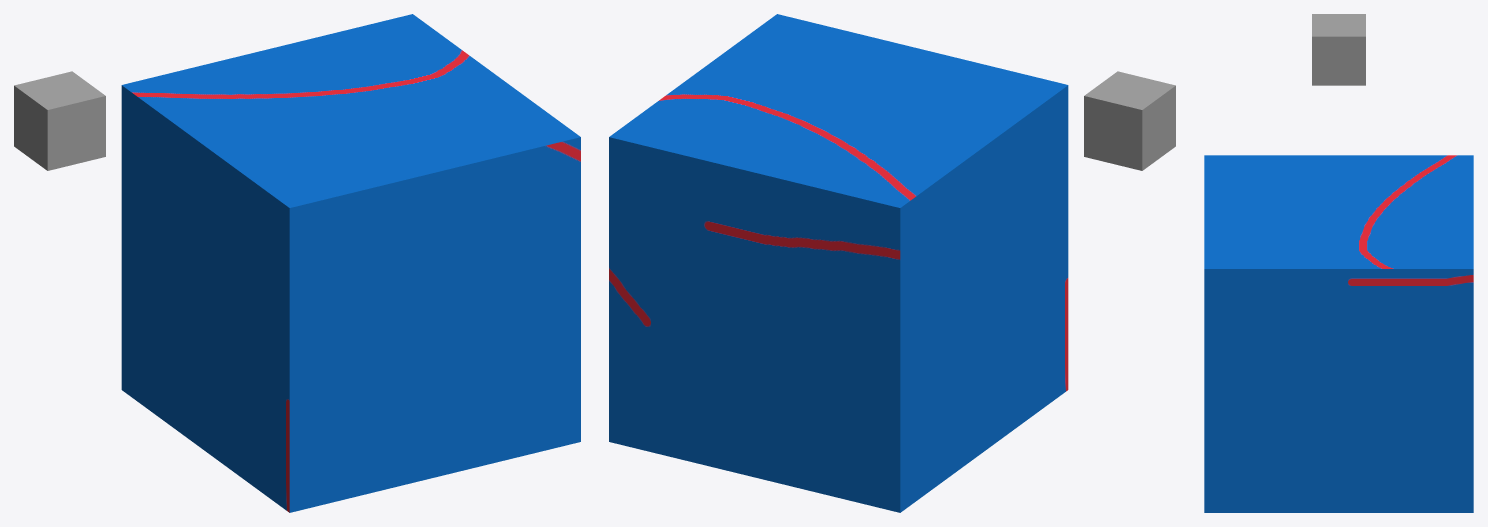
3 views of the same model, side by side, from view 1: azimuth 30°, elevation 25°; view 2: azimuth 150°, elevation 25°; view 3: azimuth 270°, elevation 25° (orthographic). The views are drawn at different scales.
Visible parts, largest first — view 1: pCube1, pCube2; view 2: pCube1, pCube2; view 3: pCube1, pCube2.
Boxes of the visible parts, x1,y1,x2,y2 form: pCube1: [121, 14, 580, 512]; pCube2: [14, 71, 105, 170]; pCube1: [609, 14, 1068, 512]; pCube2: [1084, 71, 1175, 170]; pCube1: [1204, 155, 1473, 512]; pCube2: [1312, 14, 1365, 85].
Size of the model in its own units: 8 by 6.5 by 5.
Materials: 2 (1 with a texture image).
